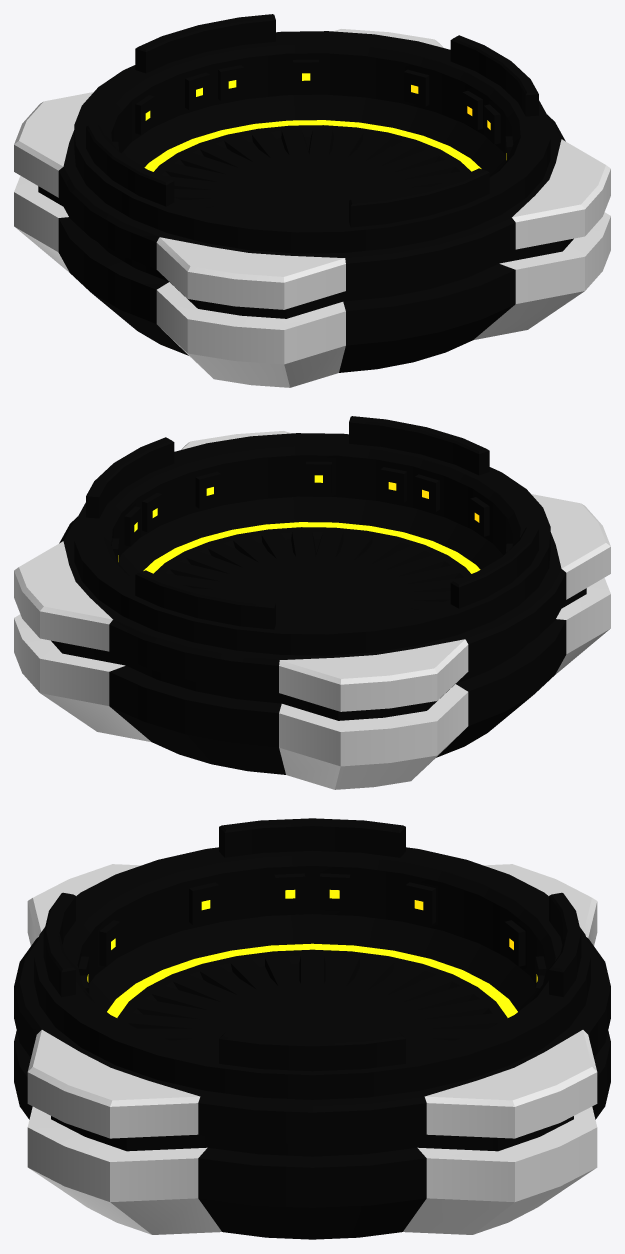
Rendered from 01_yard_medium.glb.
3 renders of one model, top to bottom at view 1: azimuth 30°, elevation 25°; view 2: azimuth 150°, elevation 25°; view 3: azimuth 270°, elevation 25°, orthographic. The views are drawn at different scales.
Visible parts, largest first — view 1: 01_yard_medium; view 2: 01_yard_medium; view 3: 01_yard_medium.
Boxes of the visible parts, x1,y1,x2,y2 form: 01_yard_medium: (14, 14, 610, 387); 01_yard_medium: (14, 416, 610, 789); 01_yard_medium: (14, 818, 610, 1239).
Size of the model in its own units: 0.9518 by 0.3677 by 0.9518.
